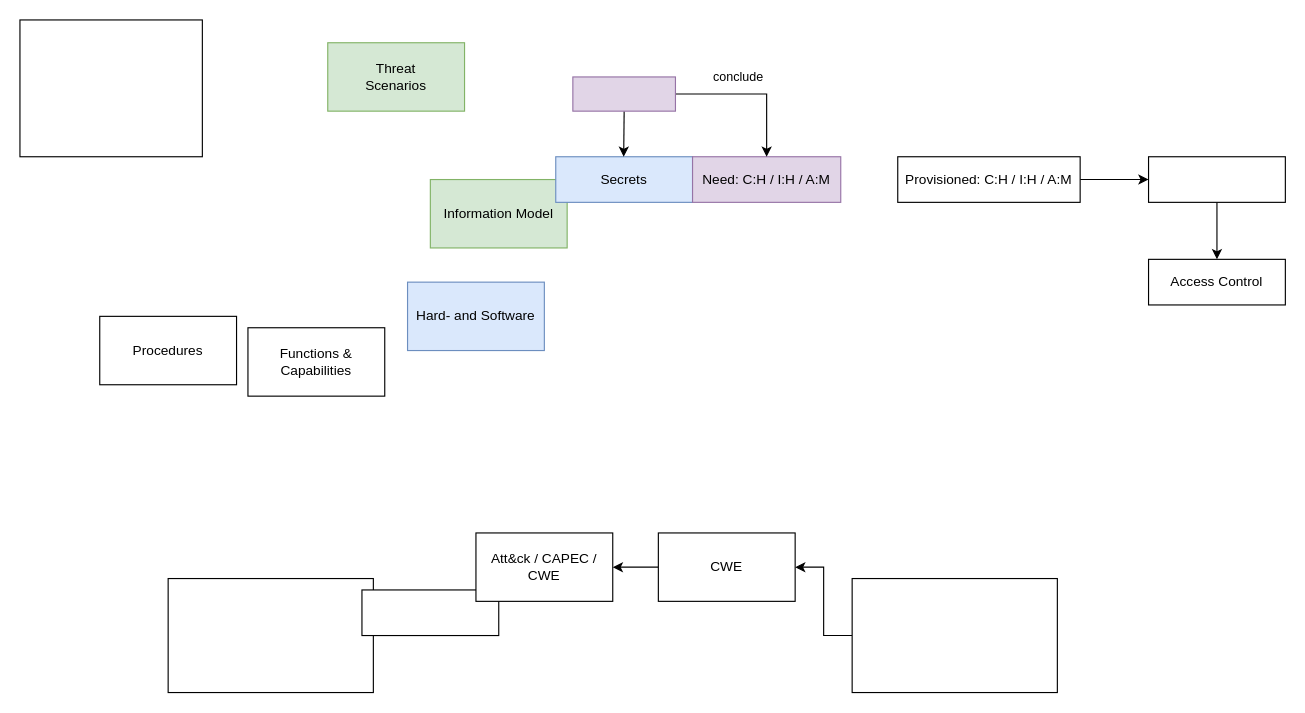
Image size: 1305x713. Some labels were removed from this diagram. The shapes that lost their labels are listed below. From the top down, each one's centre as x and y in pixels, then its label:
the point at 110,88: System "Intended Purpose" "Foreseeable Use" "Foreseeable Misuse"
the point at 623,93: Threats
the point at 1216,179: Controls
the point at 430,612: Abstract Description
the point at 270,635: Threat
the point at 954,635: CVE
